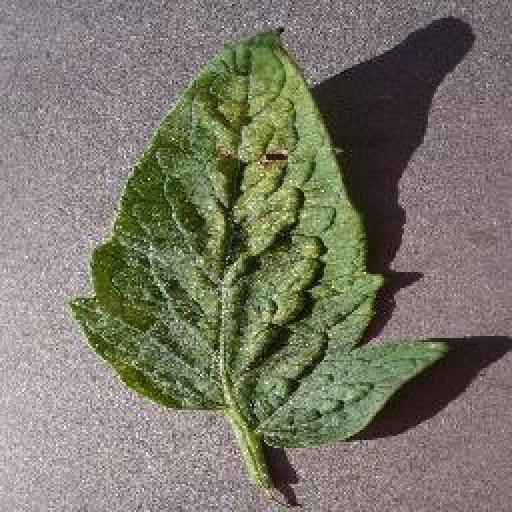Spider Mites: (69, 21, 447, 451)
